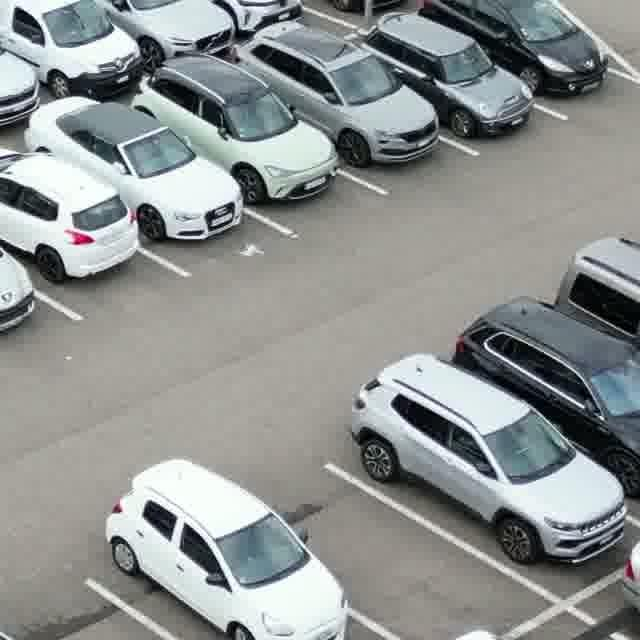Drohne: (240, 244, 264, 254)
